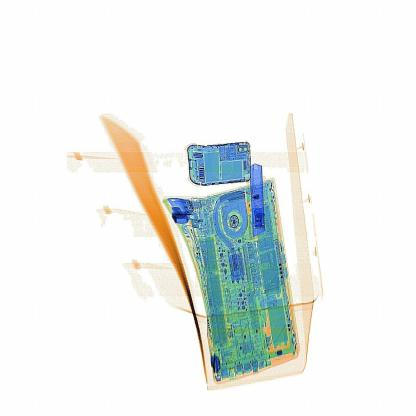pliers: (247, 153, 277, 243)
